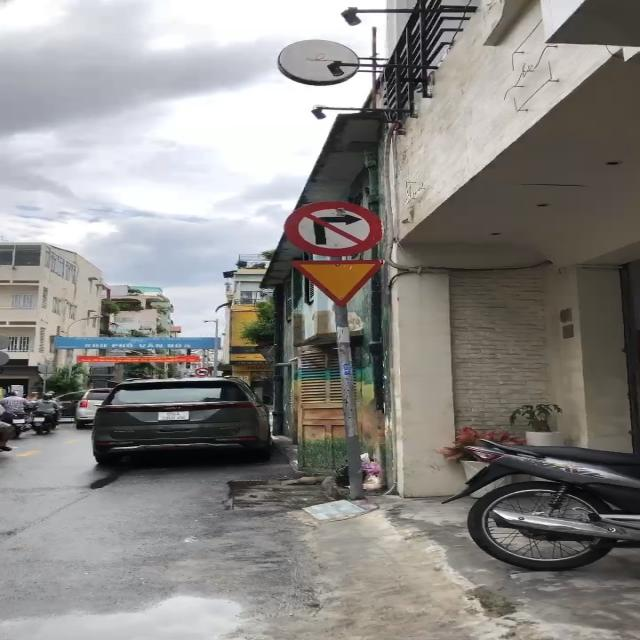Bien bao cam re phai: (281, 197, 384, 256)
Bien bao giao nhau voi duong uu tien: (280, 254, 400, 310)
